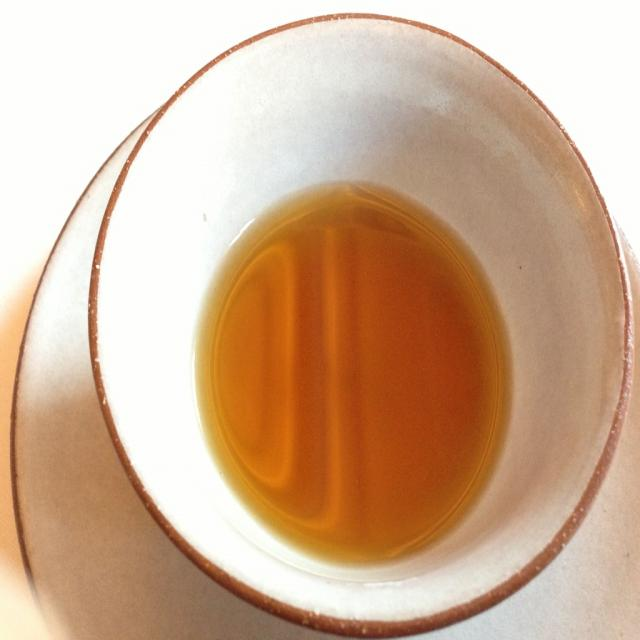Tea: (193, 183, 511, 567)
